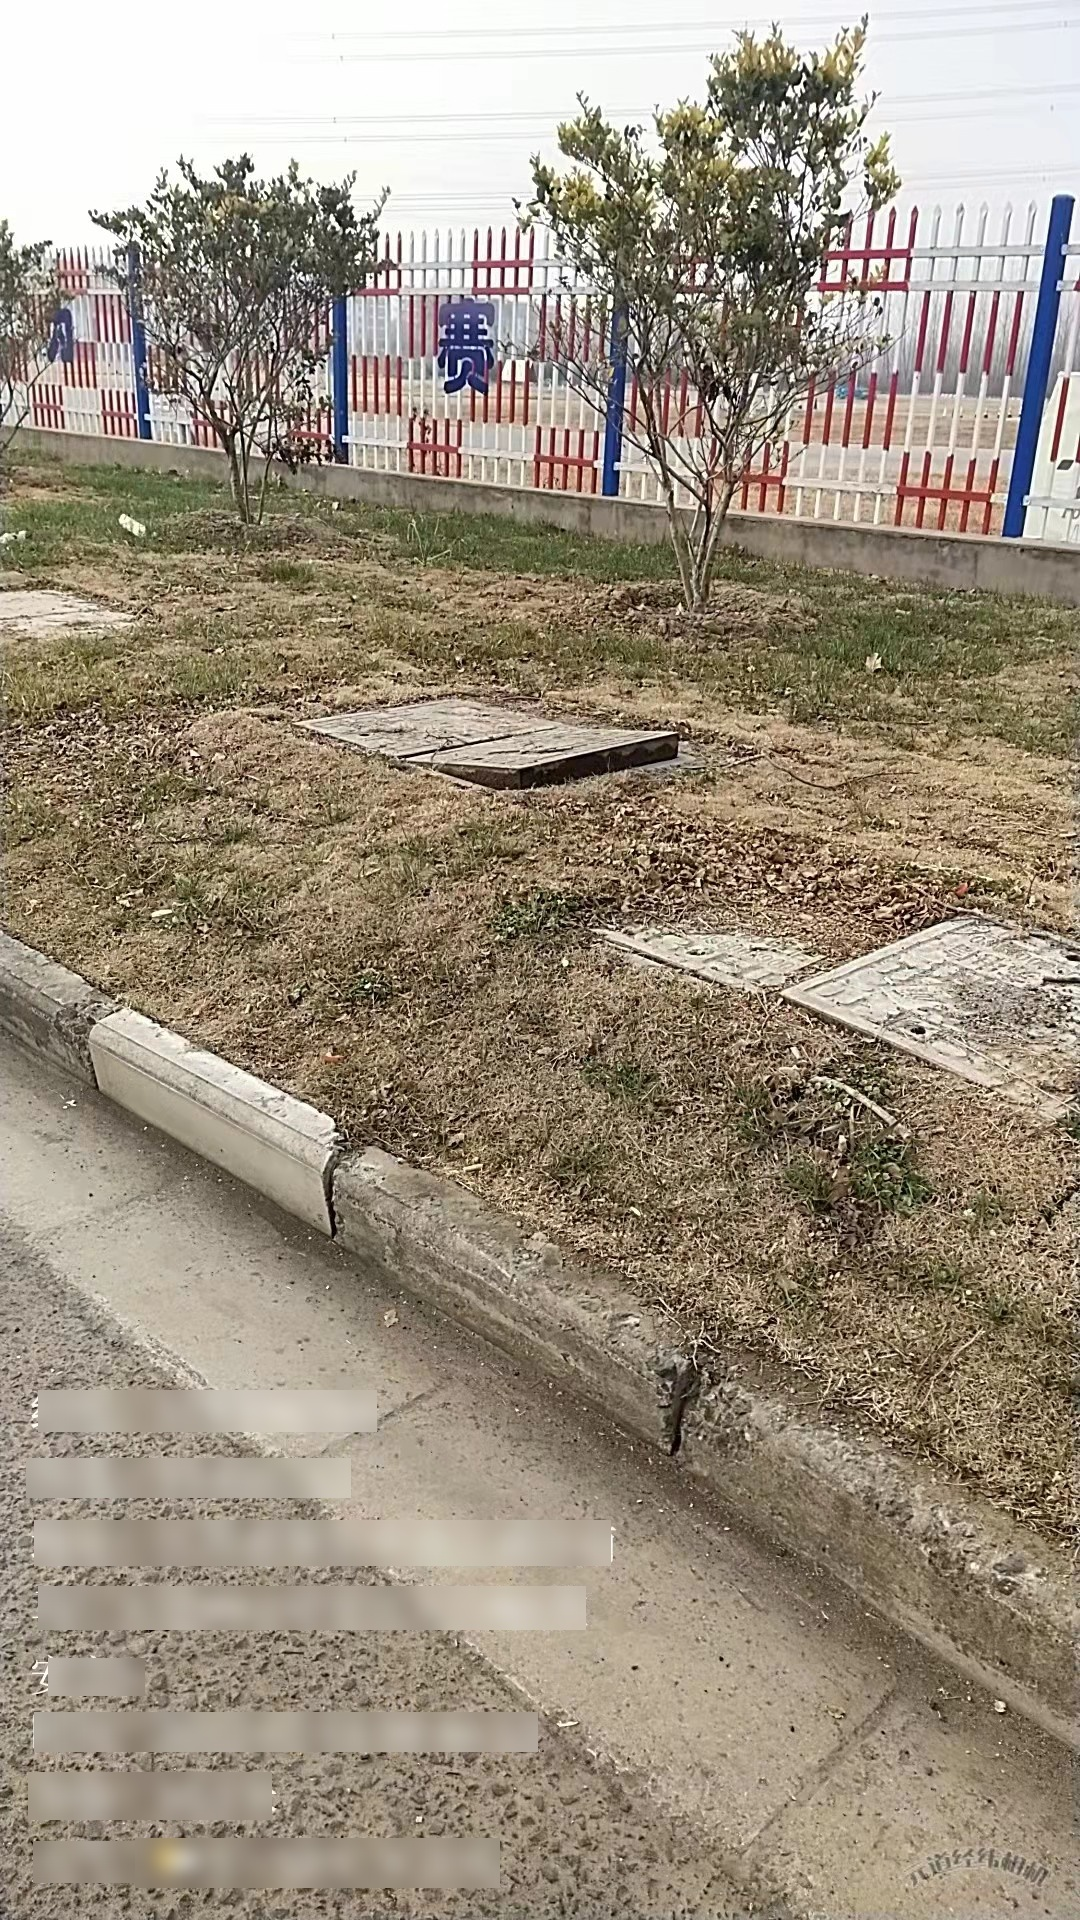good: (585, 884, 1080, 1127)
uncovered: (282, 705, 709, 793)
